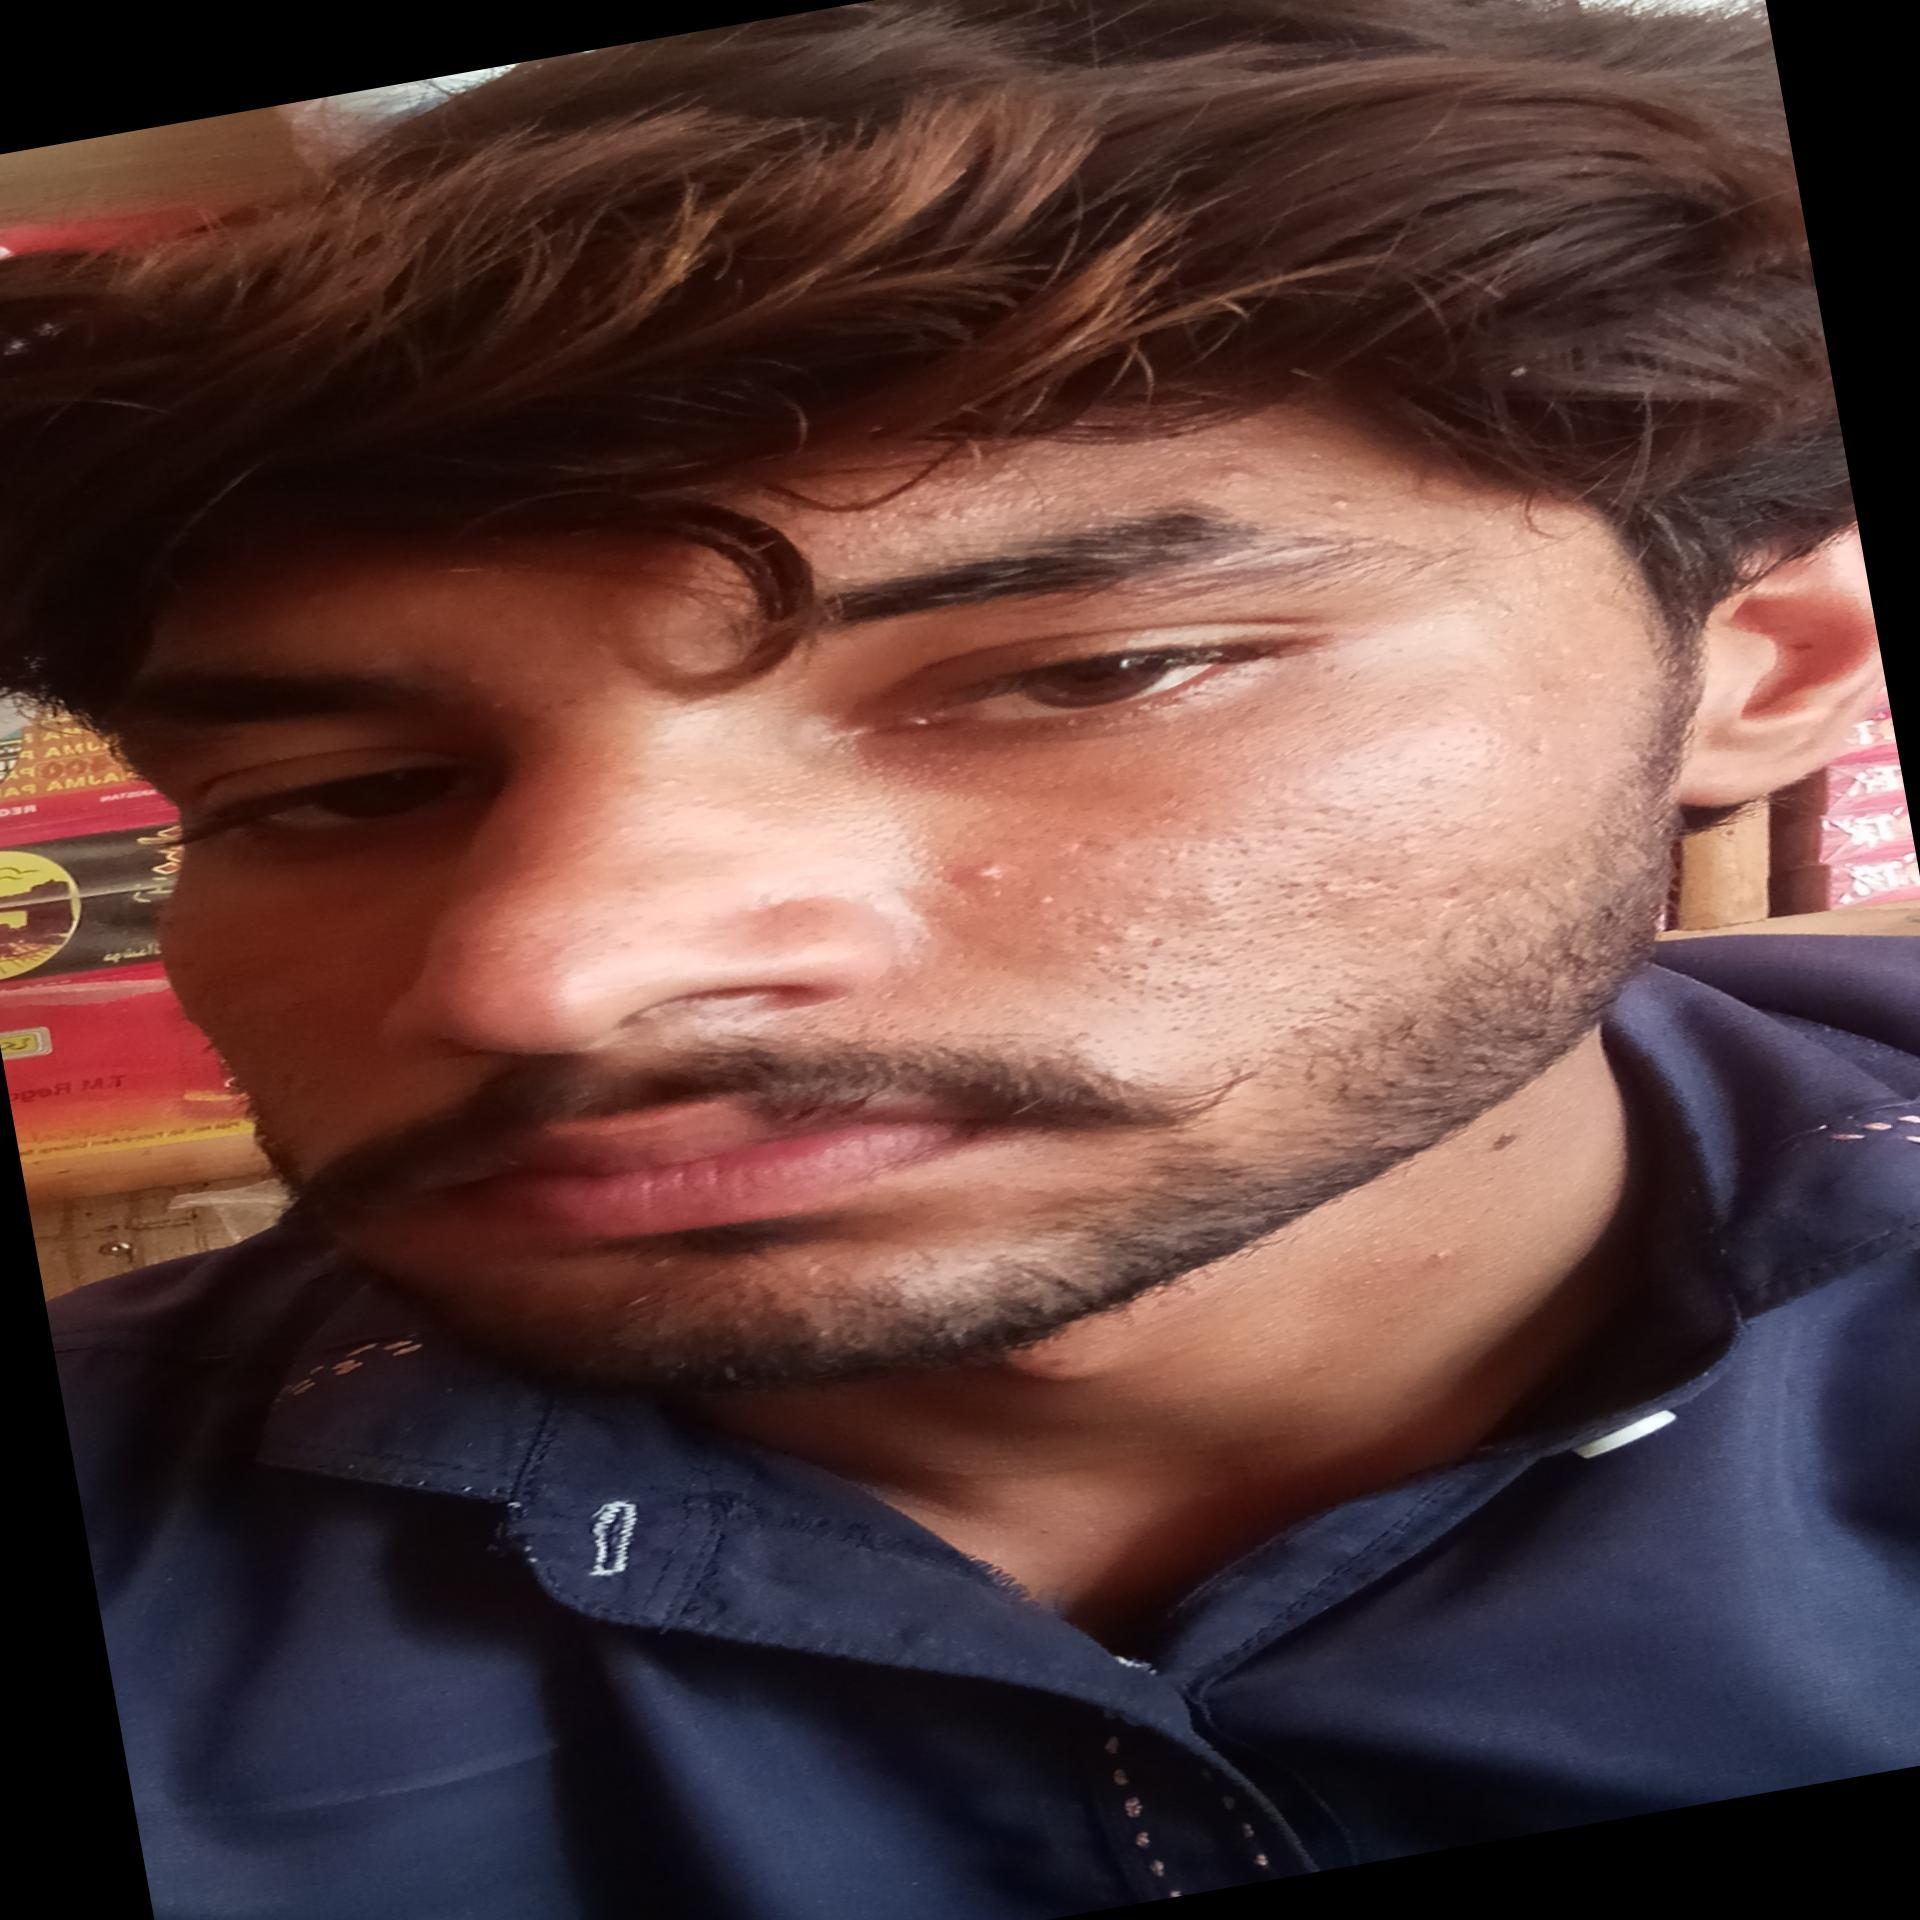Acne: (909, 498, 988, 533), (949, 855, 1018, 891), (1204, 455, 1266, 496), (1317, 485, 1368, 519), (1023, 886, 1067, 911)
Englarged Pores: (1069, 863, 1407, 1055), (800, 457, 1060, 585), (1113, 789, 1400, 886)
